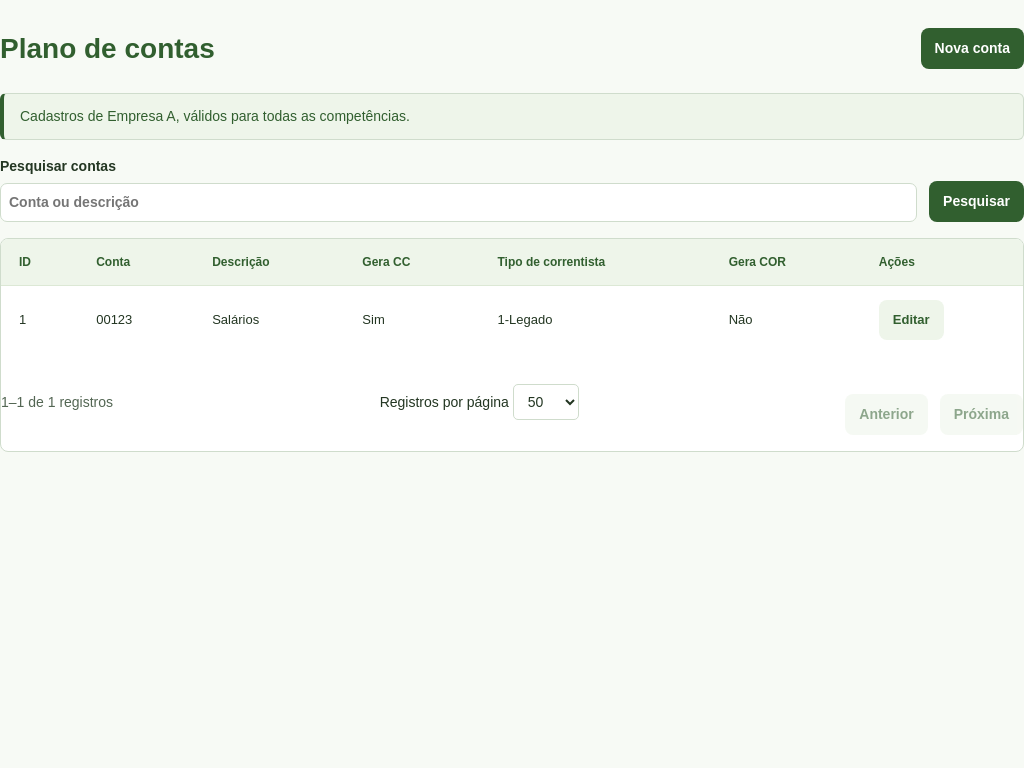
it: uses a working type selector and preserves a custom legacy option until explicitly changed
The width and height of the screenshot is (1024, 768).
Step 1. Click the button with aria-label "Editar conta 1" → (911, 320), box [879, 300, 944, 340]
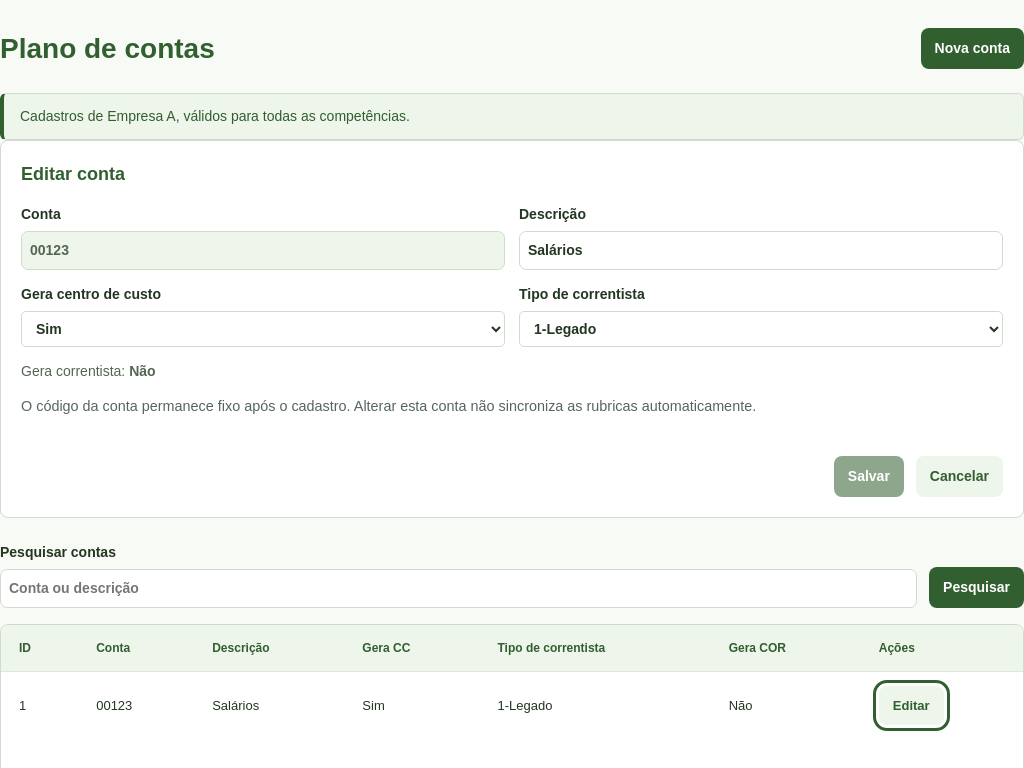
Result: the dropdown labelled "Tipo de correntista" shows "1-Legado"
Step 2. Select "2-Parceiro" in the dropdown labelled "Tipo de correntista" → (761, 329), box [519, 311, 1003, 347]
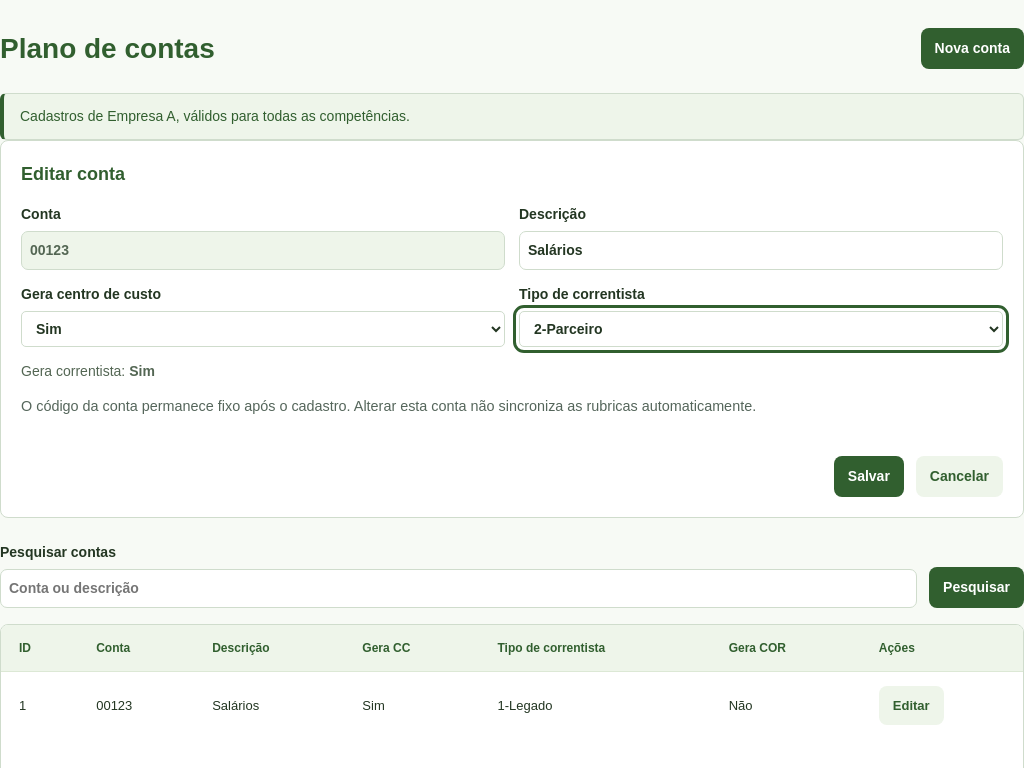
Result: the text "Sim" is shown at [129, 363, 155, 379]
Step 3. Click the button "Salvar" → (869, 476), box [834, 456, 904, 497]
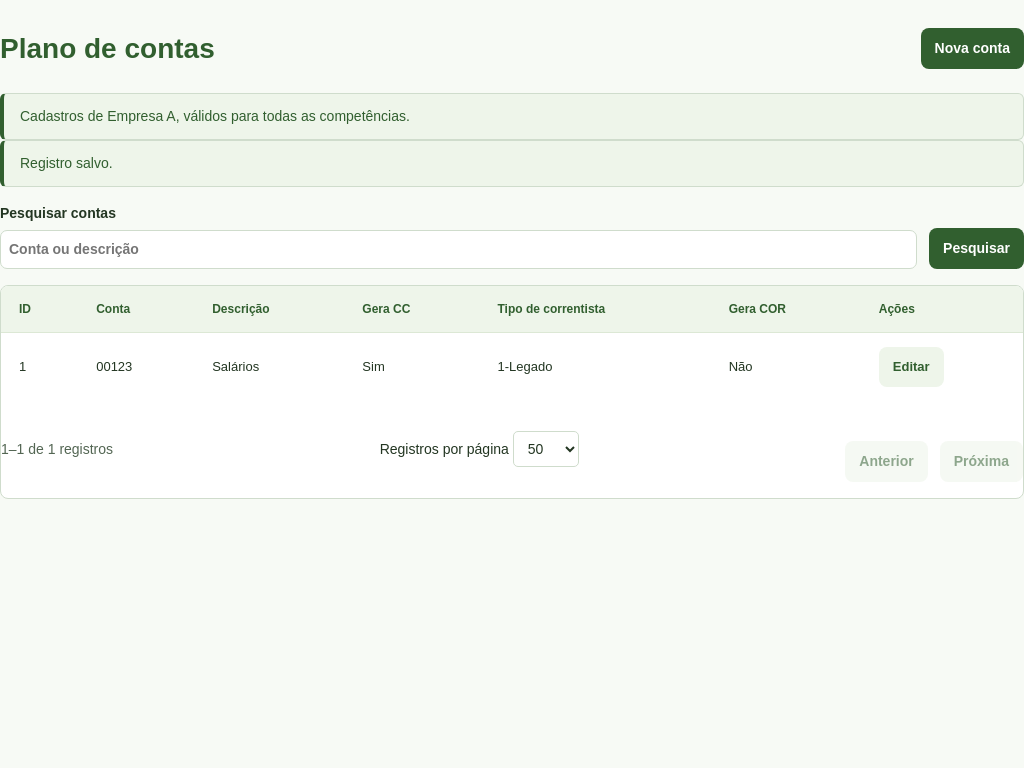
Result: the text "Registro salvo." is shown at [0, 140, 1023, 187]
